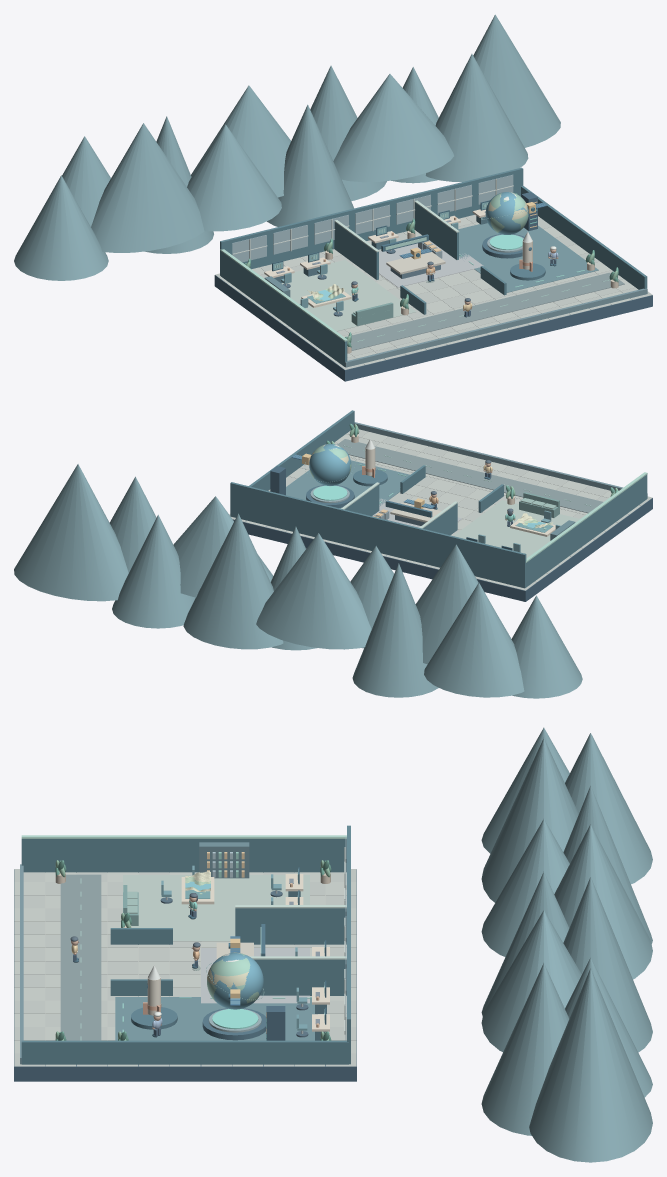
File: mission-centre.glb
3 views of the same model, one above another, from view 1: azimuth 30°, elevation 25°; view 2: azimuth 150°, elevation 25°; view 3: azimuth 270°, elevation 25° (orthographic). The views are drawn at different scales.
Visible parts, largest first — view 1: Architecture, Earth; view 2: Architecture, Earth; view 3: Architecture, Earth, Rocket.
Part boxes in pixels (x1,y1,x2,y2): Architecture: (14, 14, 652, 381); Earth: (481, 192, 546, 234); Architecture: (14, 410, 652, 698); Earth: (291, 444, 355, 486); Architecture: (14, 727, 652, 1162); Earth: (206, 952, 264, 1009); Rocket: (143, 965, 161, 1015).
Size of the model in its own units: 54 by 13 by 41.
